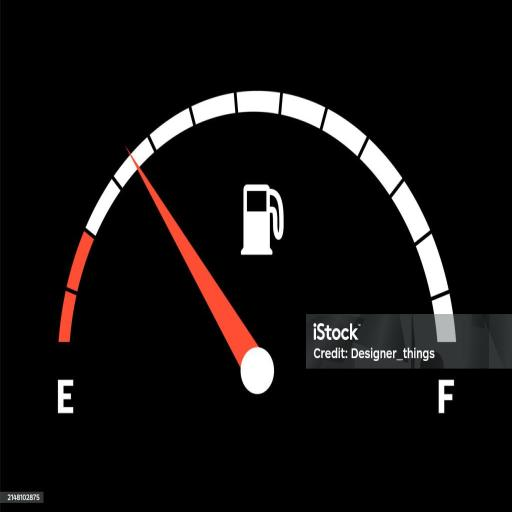empty: (53, 378, 79, 419)
fuel_icon: (240, 182, 286, 256)
full: (438, 376, 458, 416)
guage_area: (49, 83, 465, 434)
needle_center: (233, 340, 280, 402)
needle_tip: (123, 145, 138, 167)
